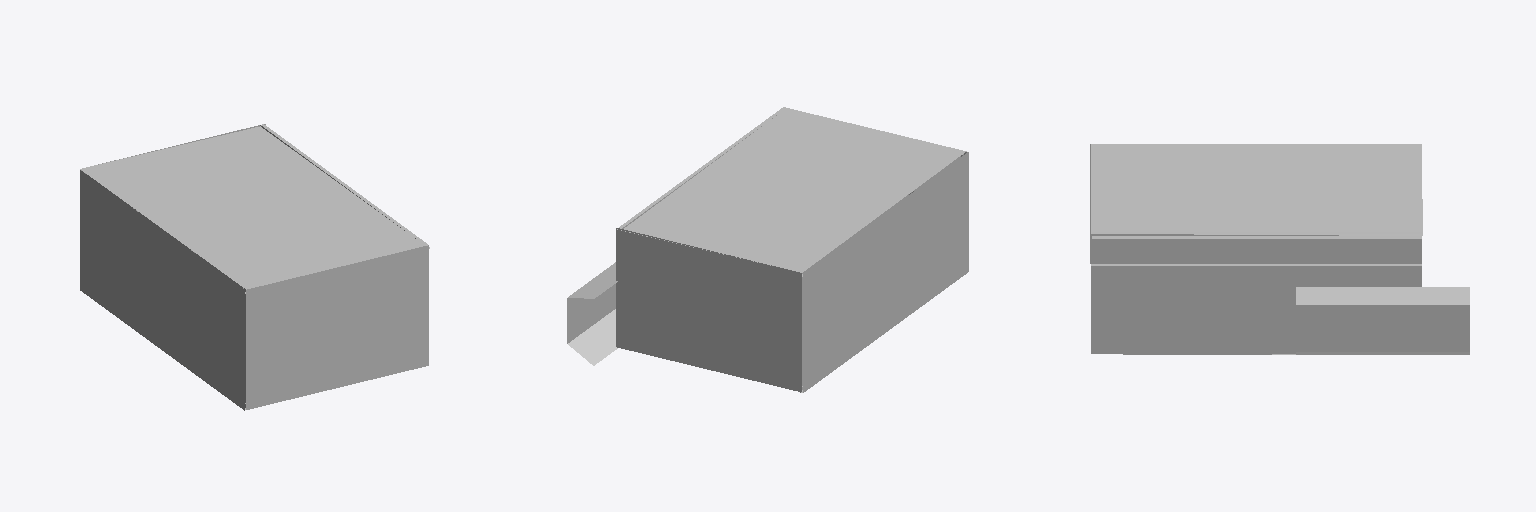
File: business_centre.obj
The picture shows the model from 3 angles: view 1: azimuth 30°, elevation 25°; view 2: azimuth 150°, elevation 25°; view 3: azimuth 270°, elevation 25°; orthographic projection.
Visible parts, largest first — view 1: Object002; view 2: Object002; view 3: Object002.
Boxes of the visible parts, box(x1,y1,x2,y2) form: Object002: box(80, 124, 429, 410); Object002: box(567, 107, 968, 392); Object002: box(1090, 144, 1469, 354).
Bounding box in the file's own units: 329 × 182 × 513.